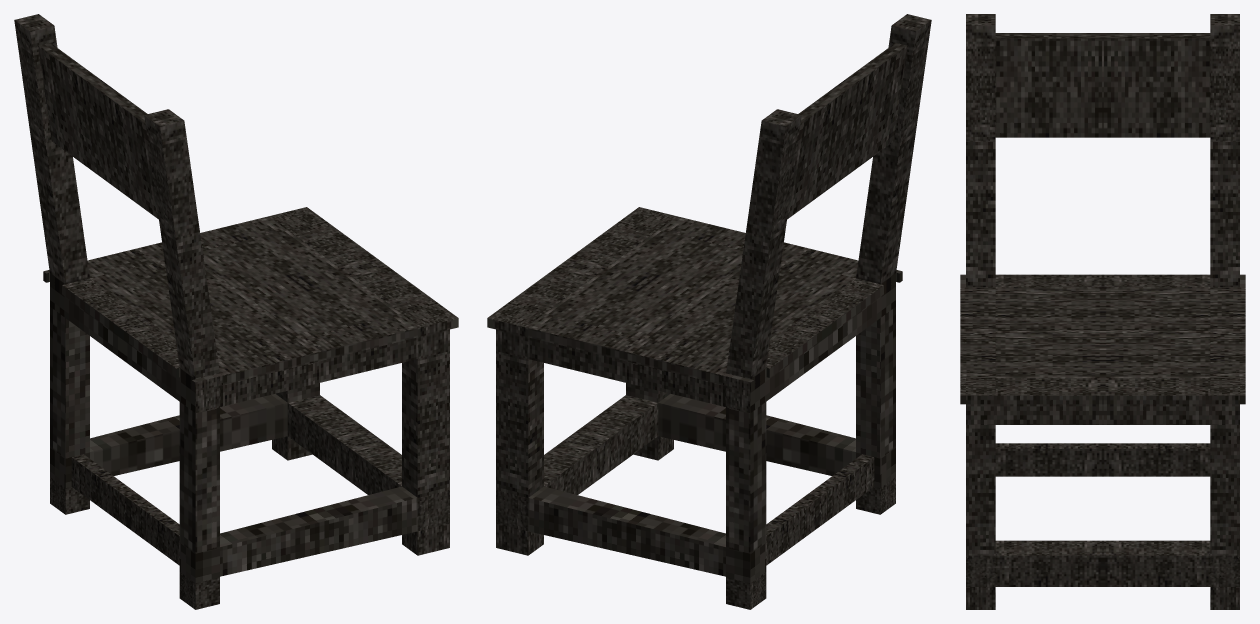
The model's file is chair.fbx.
The picture shows the model from 3 angles, left to right: view 1: azimuth 30°, elevation 25°; view 2: azimuth 150°, elevation 25°; view 3: azimuth 270°, elevation 25°; orthographic projection. The views are drawn at different scales.
Visible parts, largest first — view 1: Cube; view 2: Cube; view 3: Cube.
Part boxes in pixels (x1,y1,x2,y2): Cube: (14,14,458,609); Cube: (487,14,931,609); Cube: (960,14,1245,609).
Bounding box in the file's own units: 2.33 × 3.7 × 2.07.
